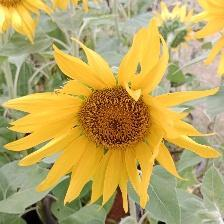sunflower: (1, 18, 224, 216)
